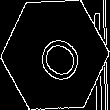O_NW: (26, 24, 84, 86)
